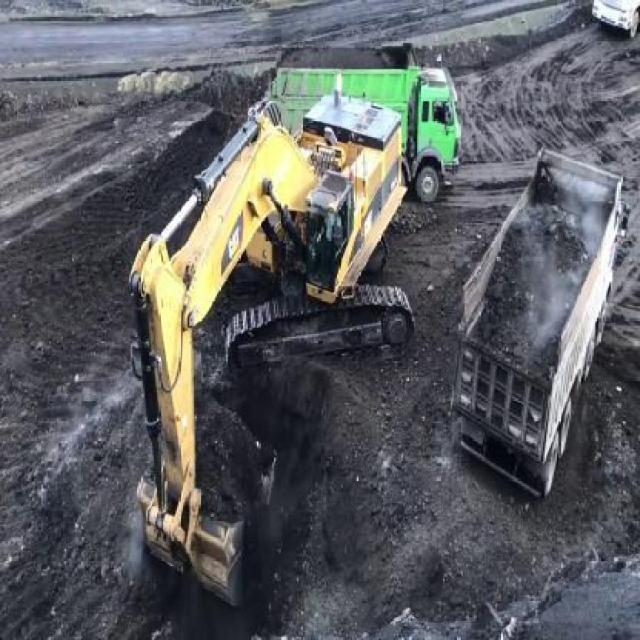Dump Truck: (450, 144, 622, 496), (273, 64, 459, 201)
Excavator: (127, 88, 416, 606)
